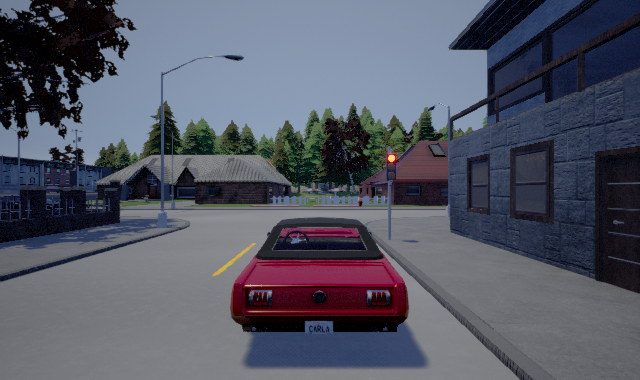traffic_light: (386, 153, 397, 181)
vehicle: (230, 217, 409, 334)
